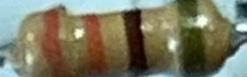Brown: (35, 7, 74, 76), (120, 8, 151, 74)
Orange: (83, 15, 112, 77)
Side-Gold: (176, 0, 207, 77)
